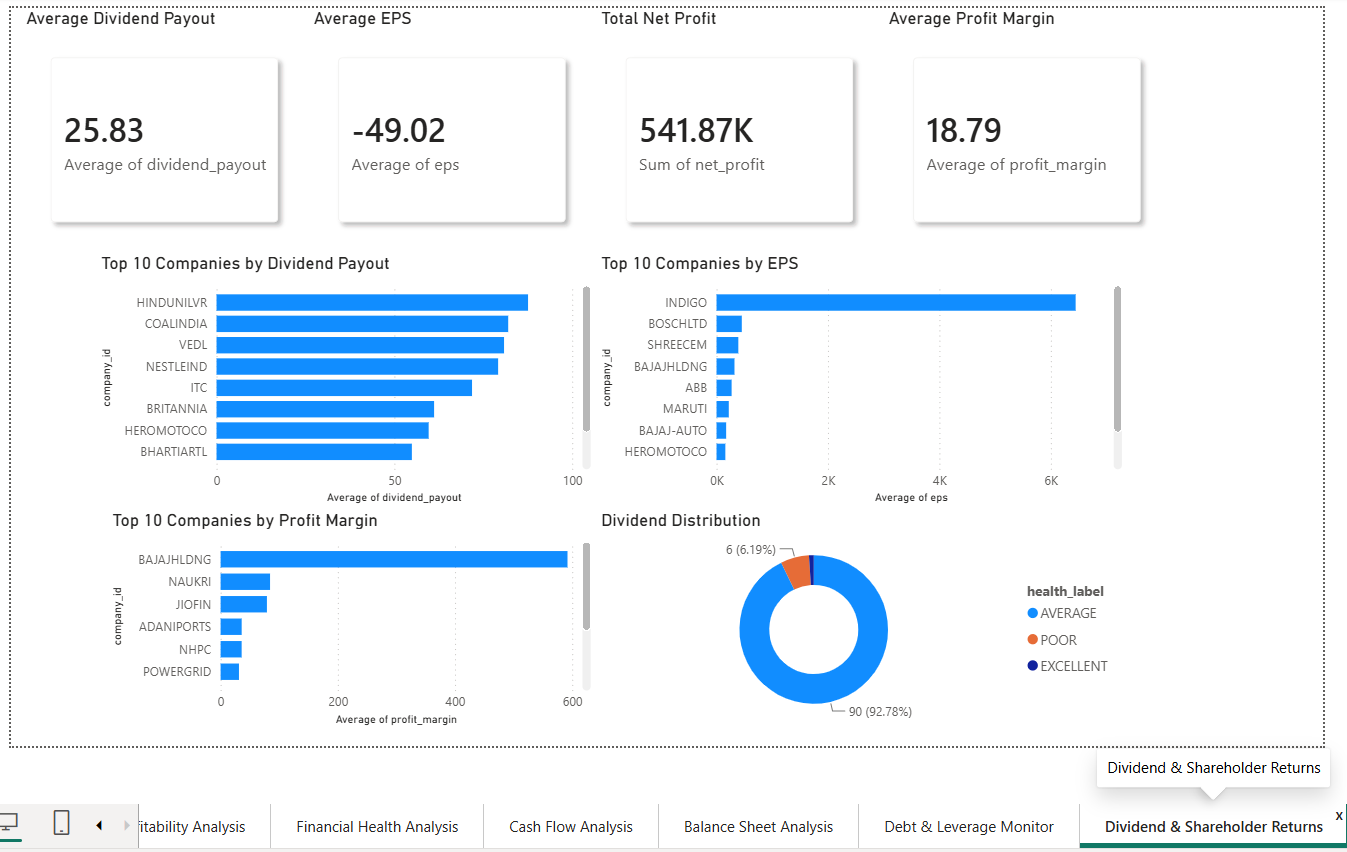

The page's visual inventory and layout, read from the dashboard file:
{"tool":"powerbi","page":{"name":"Dividend & Shareholder Returns","canvas":[1280,720],"ordinal":6},"visuals":[{"type":"cardVisual","title":"Average Dividend Payout","fields":{"Data":["Avg(company_health_scores.dividend_payout)"]},"box":[9.8,0,280.5,239],"z":0},{"type":"cardVisual","title":"Average EPS","fields":{"Data":["Avg(company_health_scores.eps)"]},"box":[290.2,0,280.5,239],"z":1},{"type":"cardVisual","title":"Total Net Profit","fields":{"Data":["Sum(company_health_scores.net_profit)"]},"box":[570.7,0,280.5,239],"z":2},{"type":"cardVisual","title":"Average Profit Margin","fields":{"Data":["Avg(company_health_scores.profit_margin)"]},"box":[851.2,0,280.5,239],"z":3},{"type":"clusteredBarChart","title":"Top 10 Companies by Dividend Payout","fields":{"Category":["company_health_scores.company_id"],"Y":["Avg(company_health_scores.dividend_payout)"]},"box":[82.9,239,487.8,250],"z":4},{"type":"clusteredBarChart","title":"Top 10 Companies by EPS","fields":{"Category":["company_health_scores.company_id"],"Y":["Avg(company_health_scores.eps)"]},"box":[570.7,239,518.3,250],"z":5},{"type":"clusteredBarChart","title":"Top 10 Companies by Profit Margin","fields":{"Category":["company_health_scores.company_id"],"Y":["Avg(company_health_scores.profit_margin)"]},"box":[93.9,489,476.8,215.9],"z":6},{"type":"donutChart","title":"Dividend Distribution","fields":{"Category":["company_health_scores.health_label"],"Y":["Count(company_health_scores.company_id)"]},"box":[570.7,489,518.3,215.9],"z":7}]}

Visuals, with their boxes on the page's 1280x720 design canvas (x1, y1, x2, y2). These are canvas units, not pixel positions in the 1347x852 screenshot, which may show the page scaled, cropped or inside an application window:
"Average Dividend Payout" cardVisual: box(10, 0, 290, 239)
"Average EPS" cardVisual: box(290, 0, 571, 239)
"Total Net Profit" cardVisual: box(571, 0, 851, 239)
"Average Profit Margin" cardVisual: box(851, 0, 1132, 239)
"Top 10 Companies by Dividend Payout" clusteredBarChart: box(83, 239, 571, 489)
"Top 10 Companies by EPS" clusteredBarChart: box(571, 239, 1089, 489)
"Top 10 Companies by Profit Margin" clusteredBarChart: box(94, 489, 571, 705)
"Dividend Distribution" donutChart: box(571, 489, 1089, 705)
